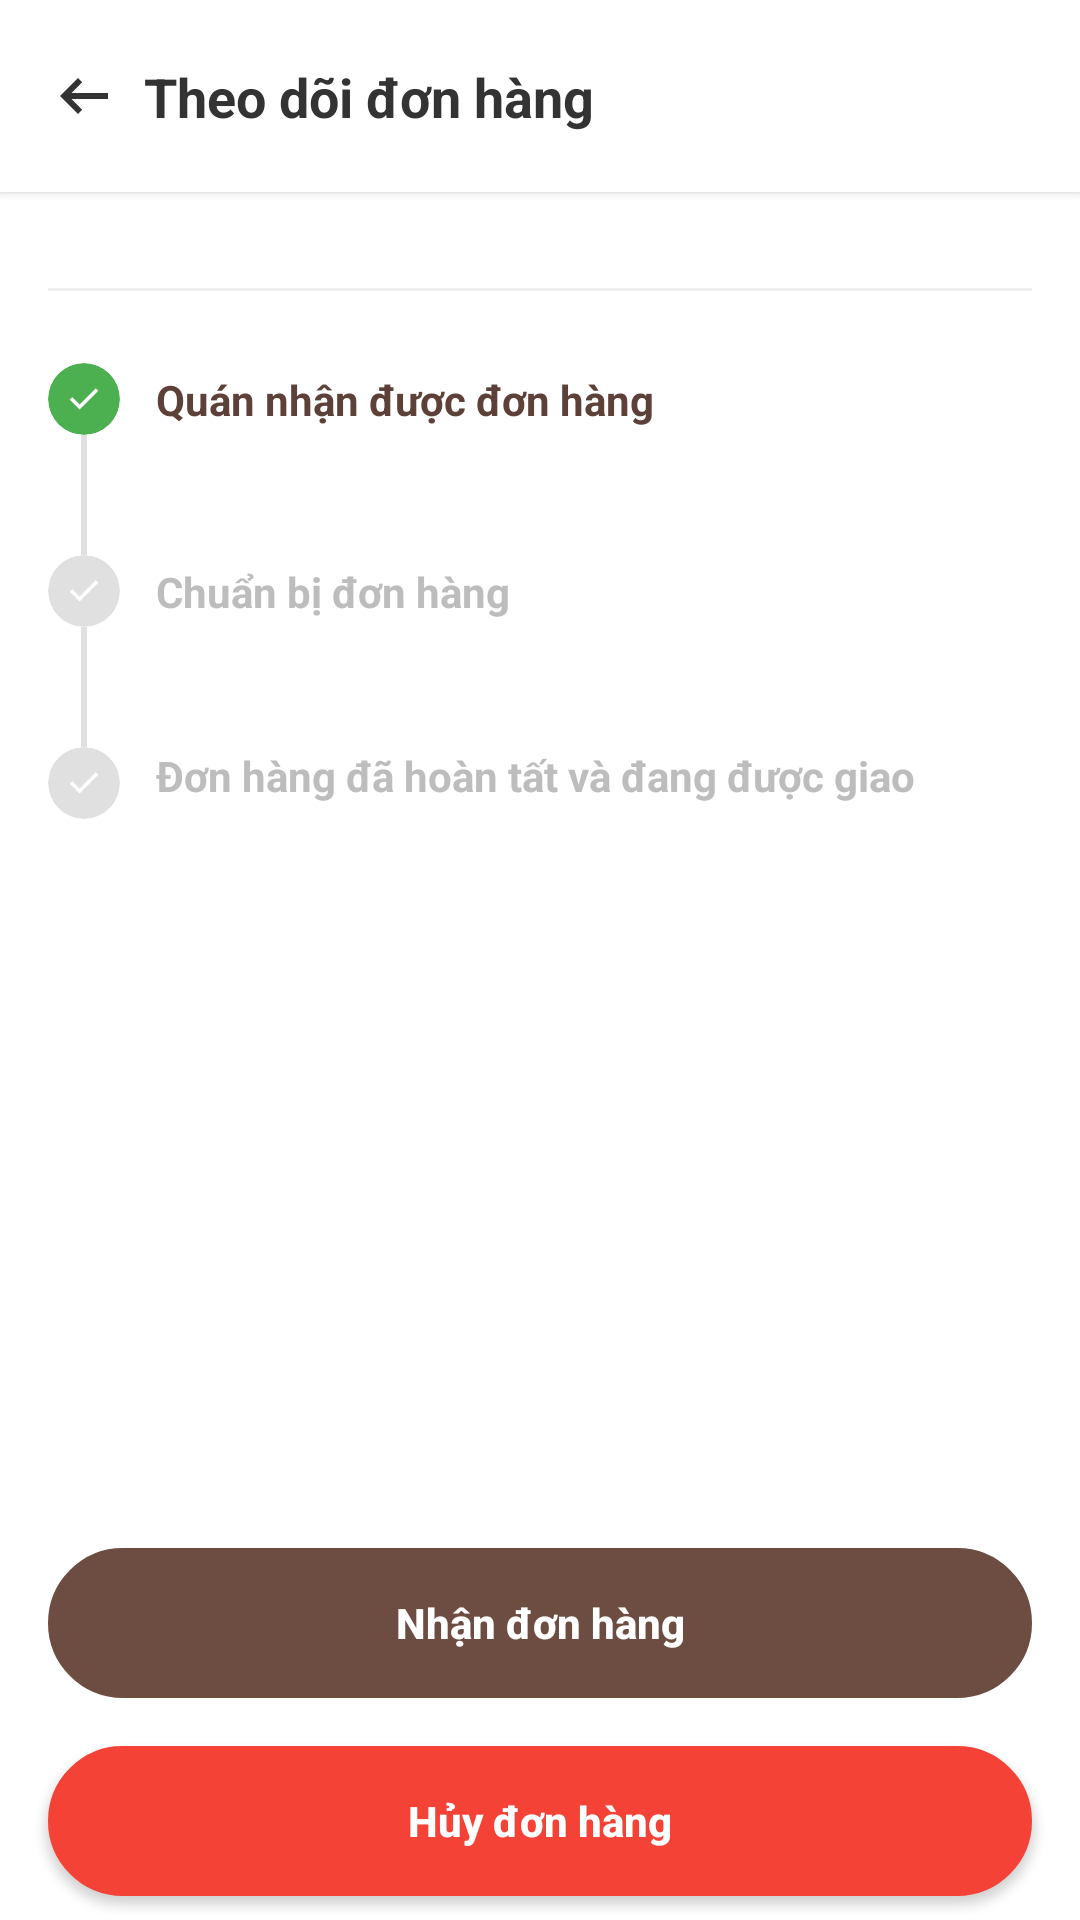

Icons on this 1080w x 1920h Android screen, each with the point to tap as (x,y):
arrow back: (84,96)
check: (84,399), (84,591), (84,783)
